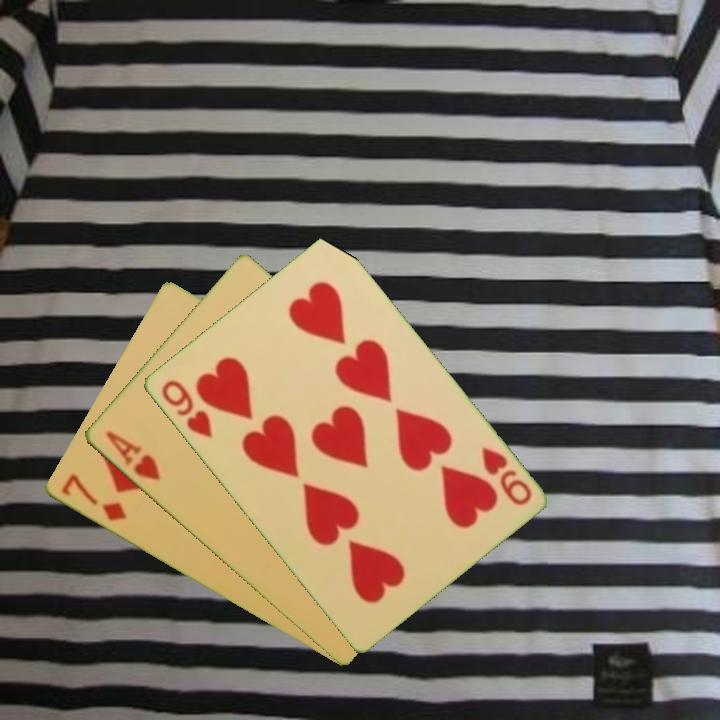7d: (57, 470, 129, 524)
9h: (157, 376, 215, 441), (477, 443, 534, 509)
Ah: (102, 427, 164, 484)
